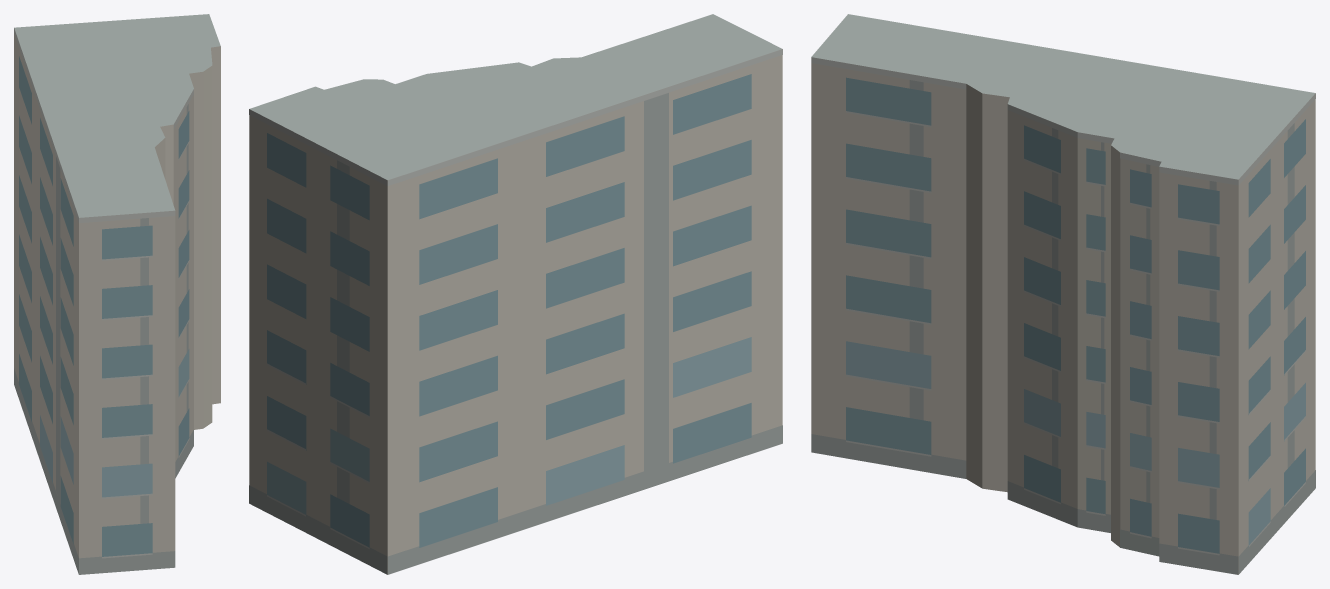
File: survey-upis-32577688.glb
3 renders of one model, left to right at view 1: azimuth 30°, elevation 25°; view 2: azimuth 150°, elevation 25°; view 3: azimuth 270°, elevation 25°, orthographic. The views are drawn at different scales.
Visible parts, largest first — view 1: survey-upis-32577688.tmp; view 2: survey-upis-32577688.tmp; view 3: survey-upis-32577688.tmp.
Boxes of the visible parts, left/top/right/bottom form: survey-upis-32577688.tmp: left=14, top=14, right=220, bottom=574; survey-upis-32577688.tmp: left=249, top=14, right=782, bottom=574; survey-upis-32577688.tmp: left=811, top=14, right=1315, bottom=574.
Size of the model in its own units: 14.66 by 16.3 by 18.87.
